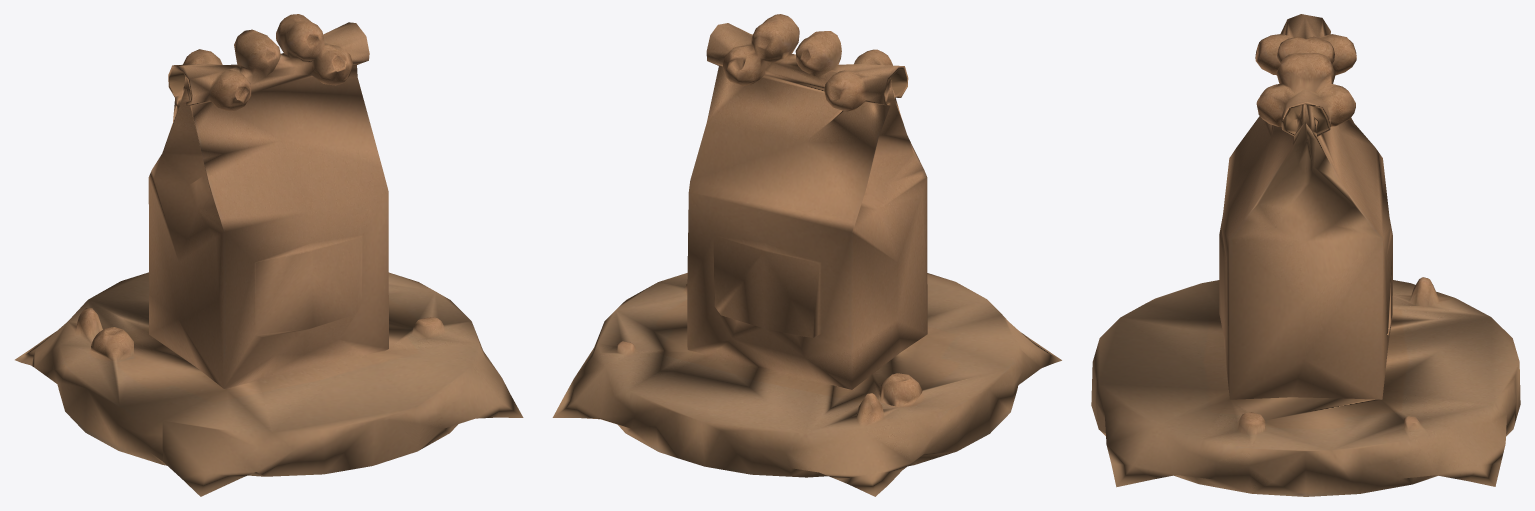
Rendered from Croquette.fbx.
The picture shows the model from 3 angles, left to right: view 1: azimuth 30°, elevation 25°; view 2: azimuth 150°, elevation 25°; view 3: azimuth 270°, elevation 25°; orthographic projection.
Visible parts, largest first — view 1: Mesh_0; view 2: Mesh_0; view 3: Mesh_0.
Part boxes in pixels (x1,y1,x2,y2): Mesh_0: (15, 14, 523, 496); Mesh_0: (552, 14, 1061, 496); Mesh_0: (1091, 14, 1520, 496).
Bounding box in the file's own units: 190 × 179 × 190.
1 material, 1 textured.
